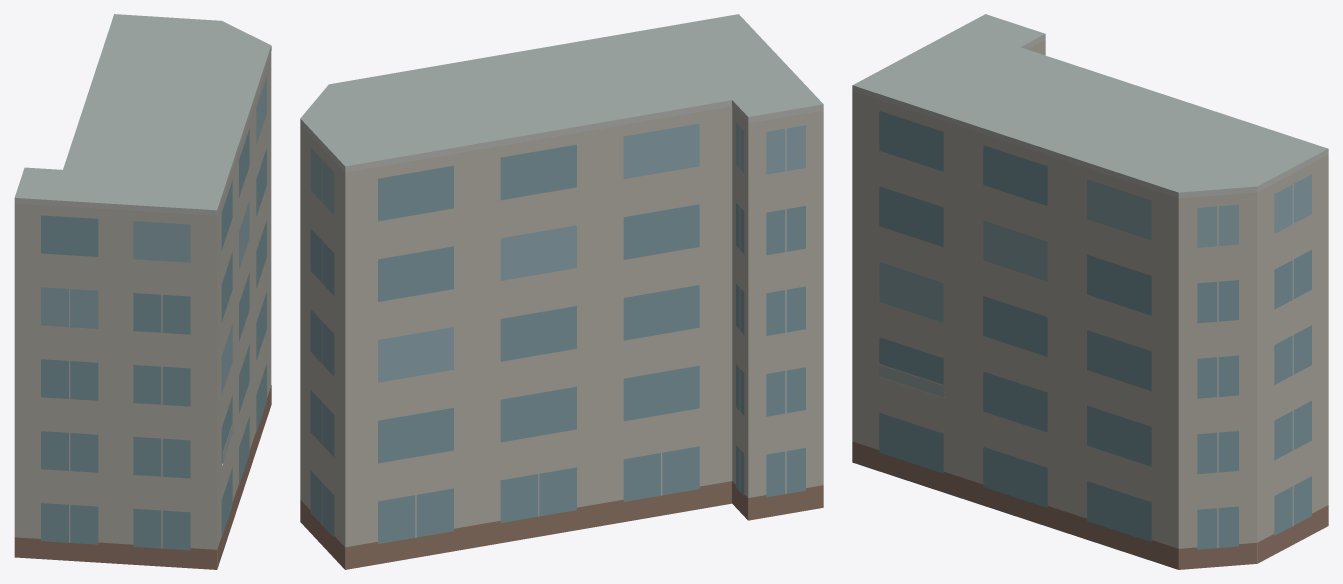
File: survey-upis-32659789.glb
3 views of the same model, side by side, from view 1: azimuth 30°, elevation 25°; view 2: azimuth 150°, elevation 25°; view 3: azimuth 270°, elevation 25° (orthographic). The views are drawn at different scales.
Parts seen in each view (by area): view 1: survey-upis-32659789.tmp; view 2: survey-upis-32659789.tmp; view 3: survey-upis-32659789.tmp.
Boxes of the visible parts, x1,y1,x2,y2 form: survey-upis-32659789.tmp: (14,14,271,569); survey-upis-32659789.tmp: (300,14,823,569); survey-upis-32659789.tmp: (852,14,1328,569).
Bounding box in the file's own units: 15.95 × 15.7 × 17.96.
